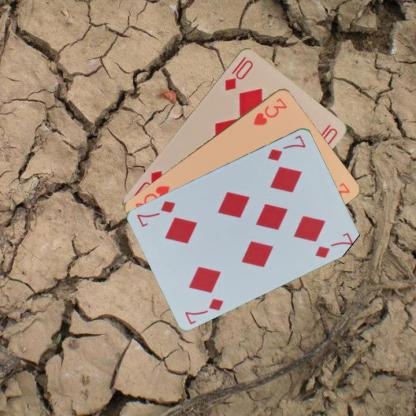10d: (222, 57, 254, 92)
3h: (251, 94, 289, 126)
7d: (264, 132, 308, 162), (182, 296, 224, 326)
